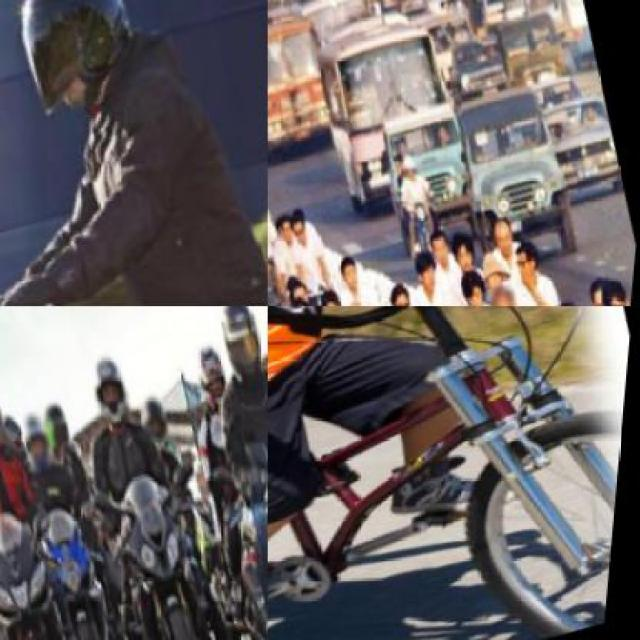With Helmet: (0, 0, 171, 131), (85, 348, 142, 426), (208, 306, 266, 380), (187, 331, 238, 403), (19, 406, 67, 477), (36, 392, 82, 458), (134, 386, 180, 446), (0, 366, 18, 450), (398, 143, 432, 180)
Without Helmet: (489, 278, 538, 304), (546, 288, 605, 304)
